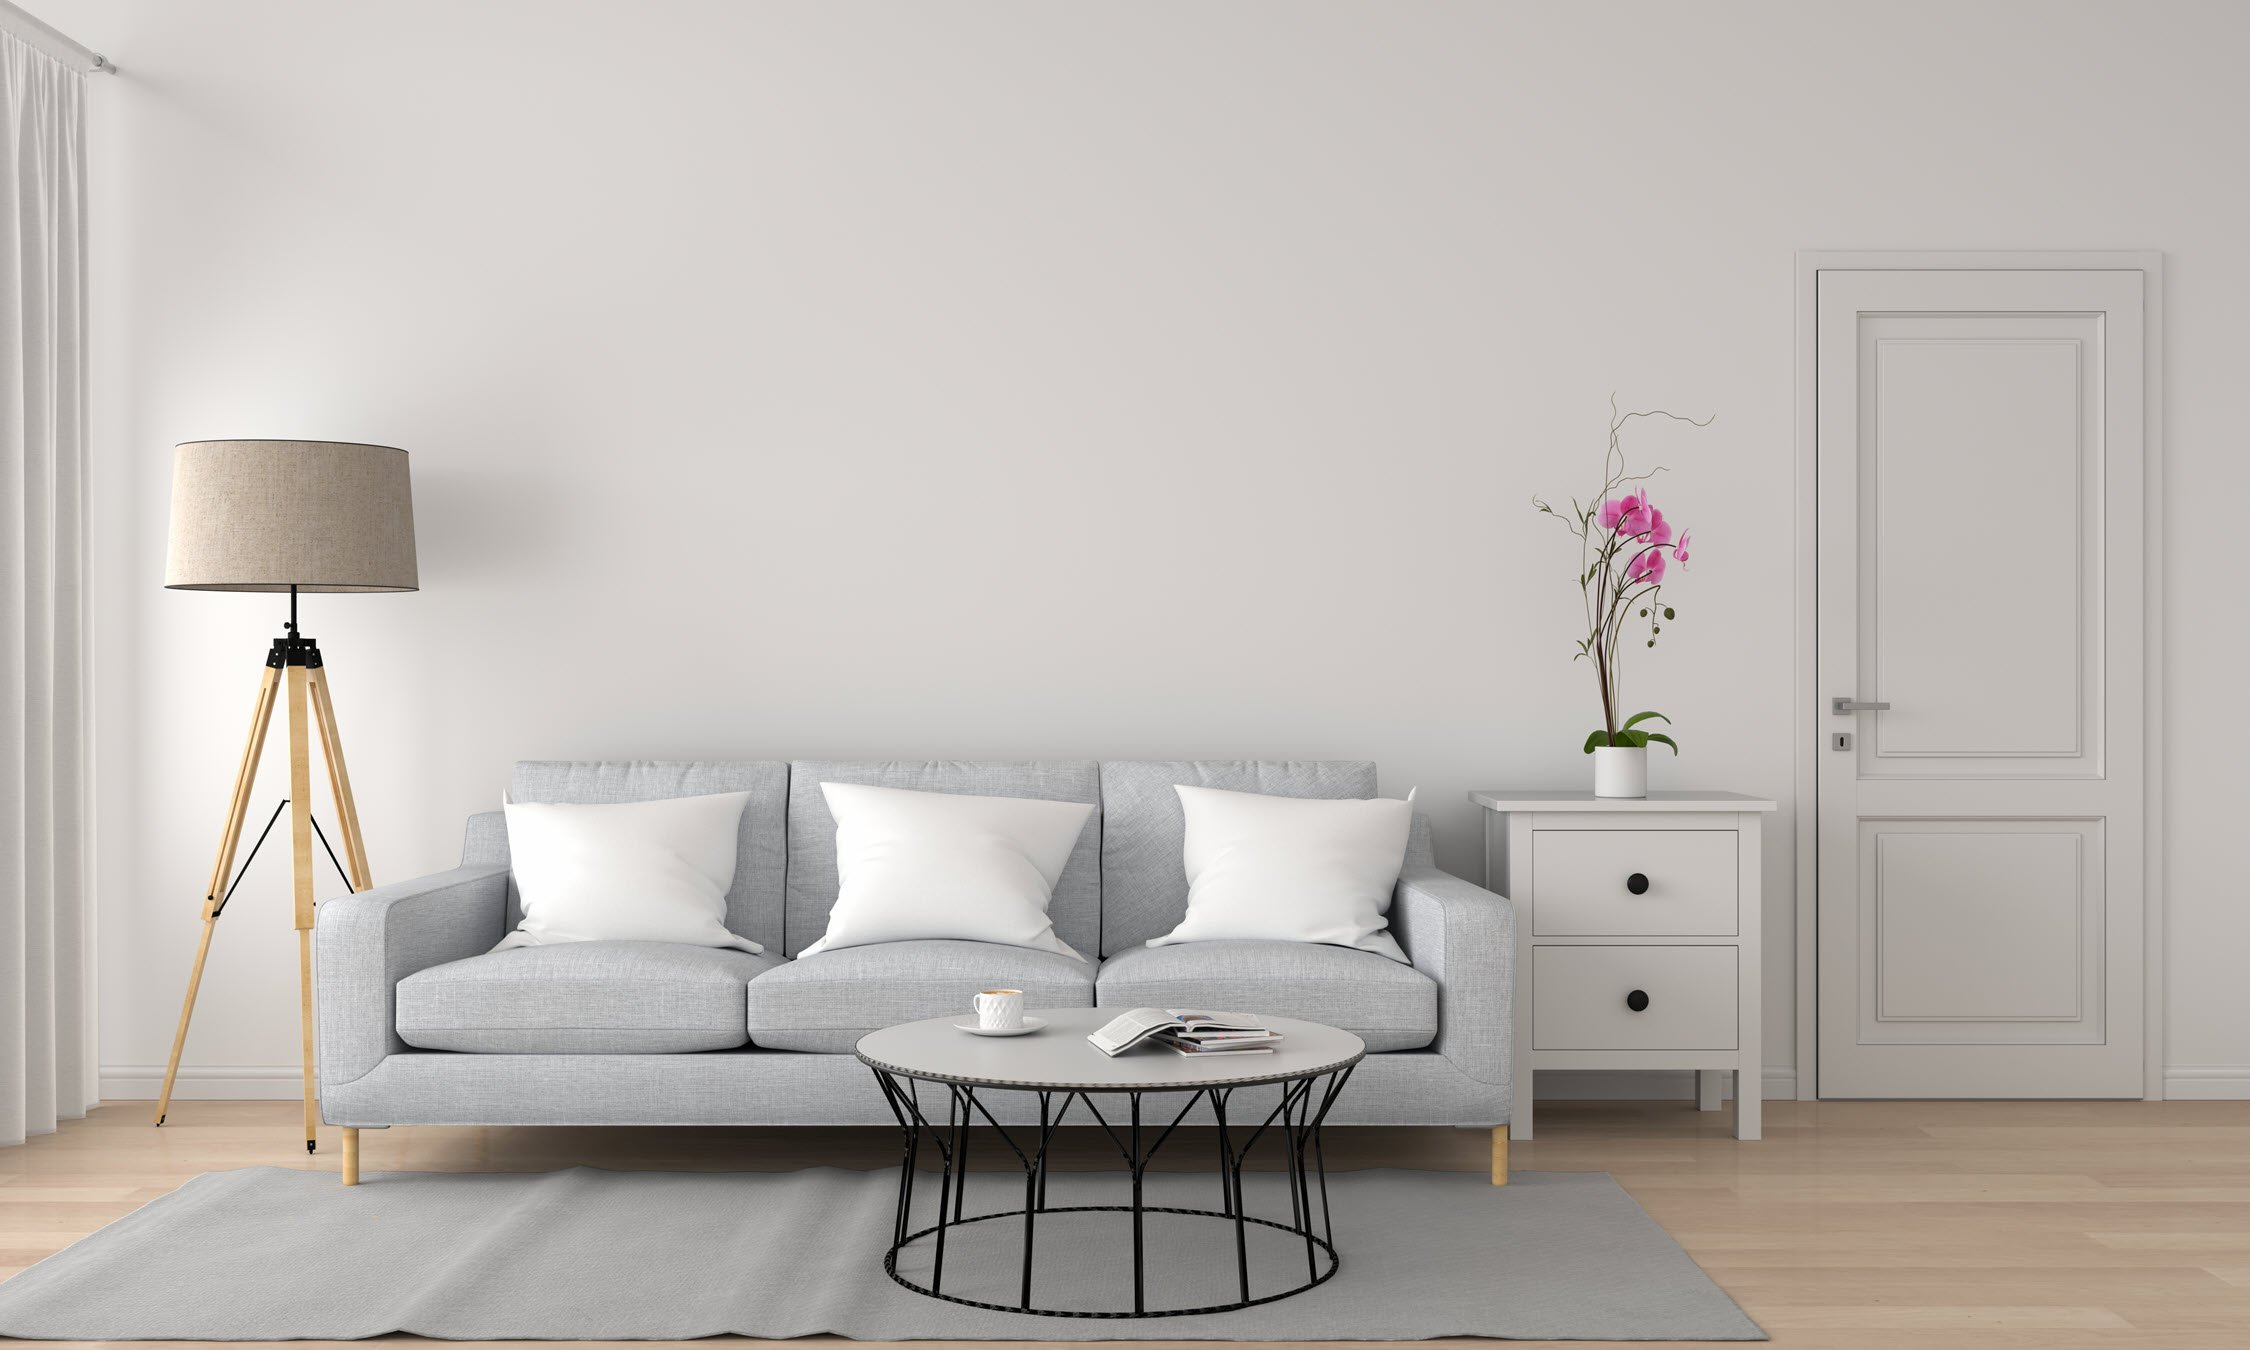floor lamp: (140, 427, 423, 1151)
flower vase: (1528, 368, 1718, 799)
sofa: (305, 744, 1527, 1191)
table: (853, 996, 1368, 1291)
